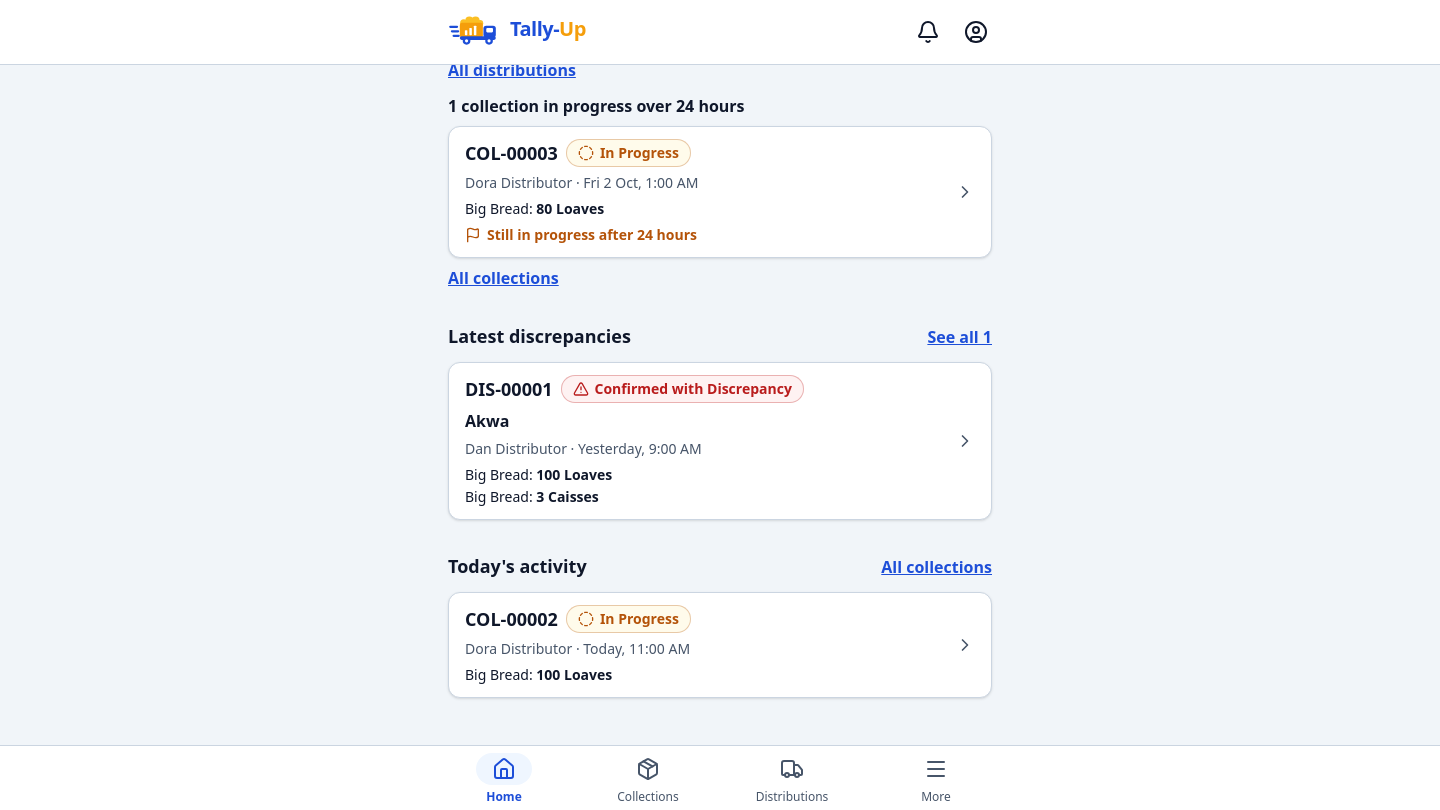
Home lists › Q-56: a receipt opened from Home belongs to the Distributions tab, and Back stays in that tab
(page scrolled)
Step 1. Click the link "DIS-00001" → (509,389), box [448,362,992,520]
(page scrolled)
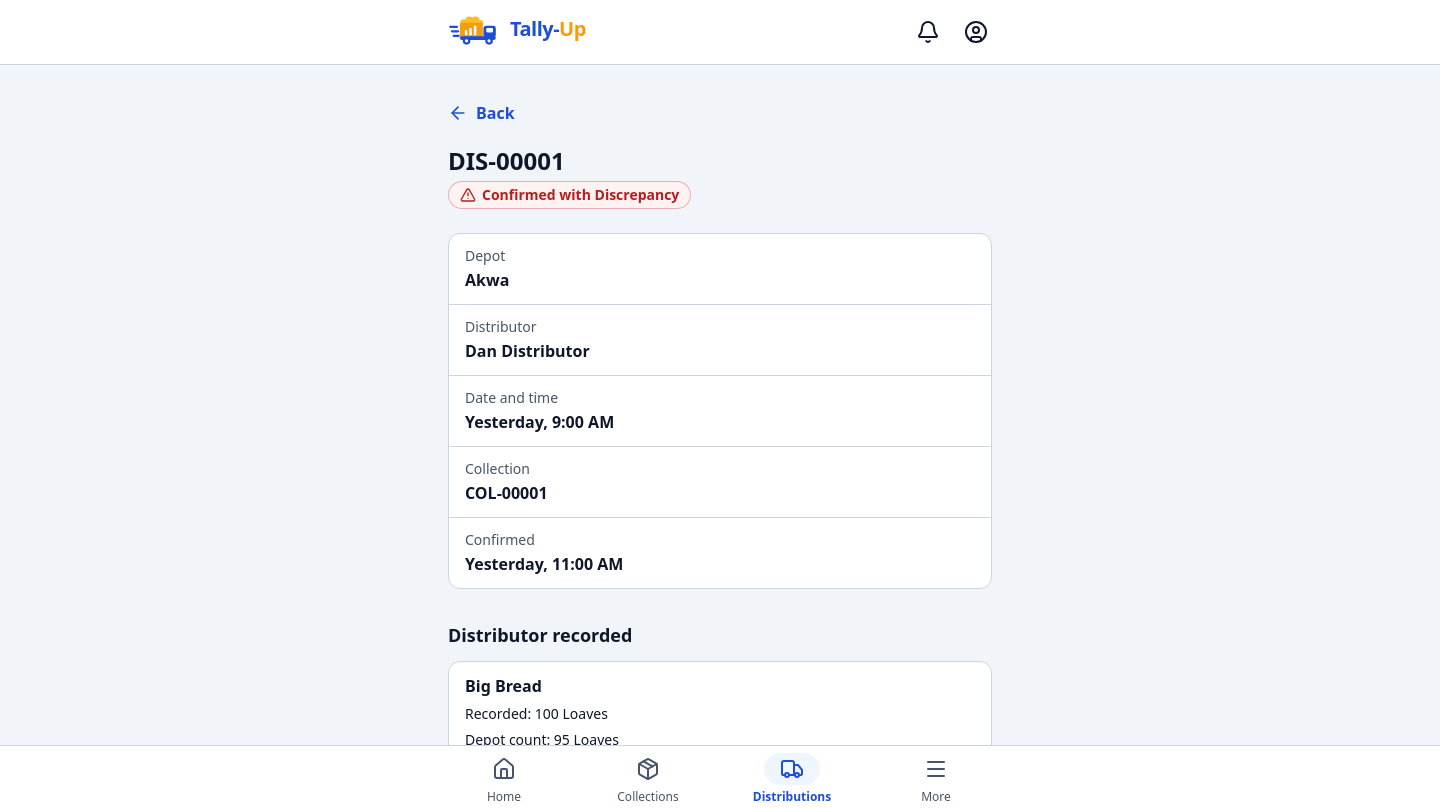
Expected: the heading "DIS-00001" is shown, [448,144,565,177]
Step 2. Click the button "Back" → (481,113), box [436,89,527,137]
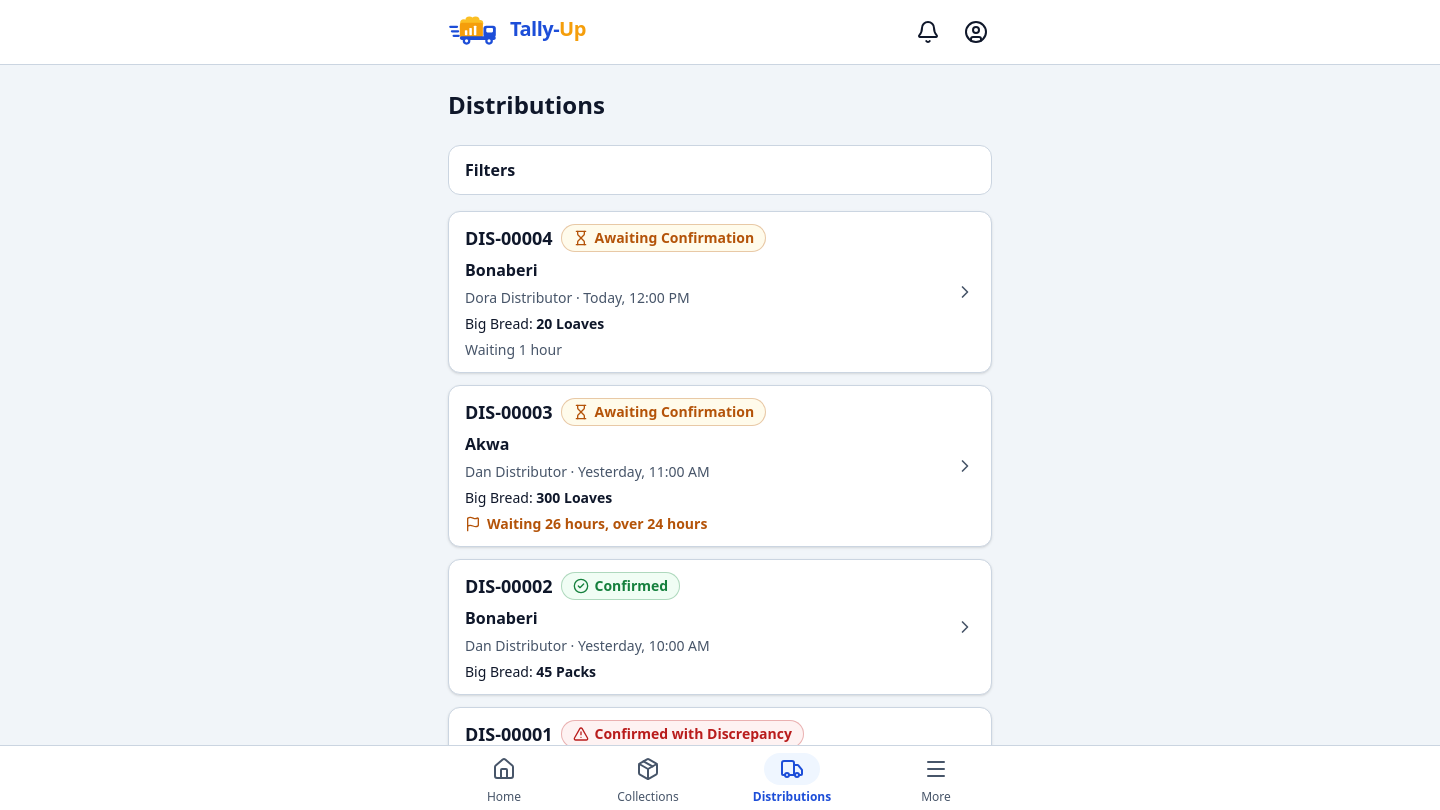
Expected: the heading "Distributions" is shown, [448,88,605,121]
